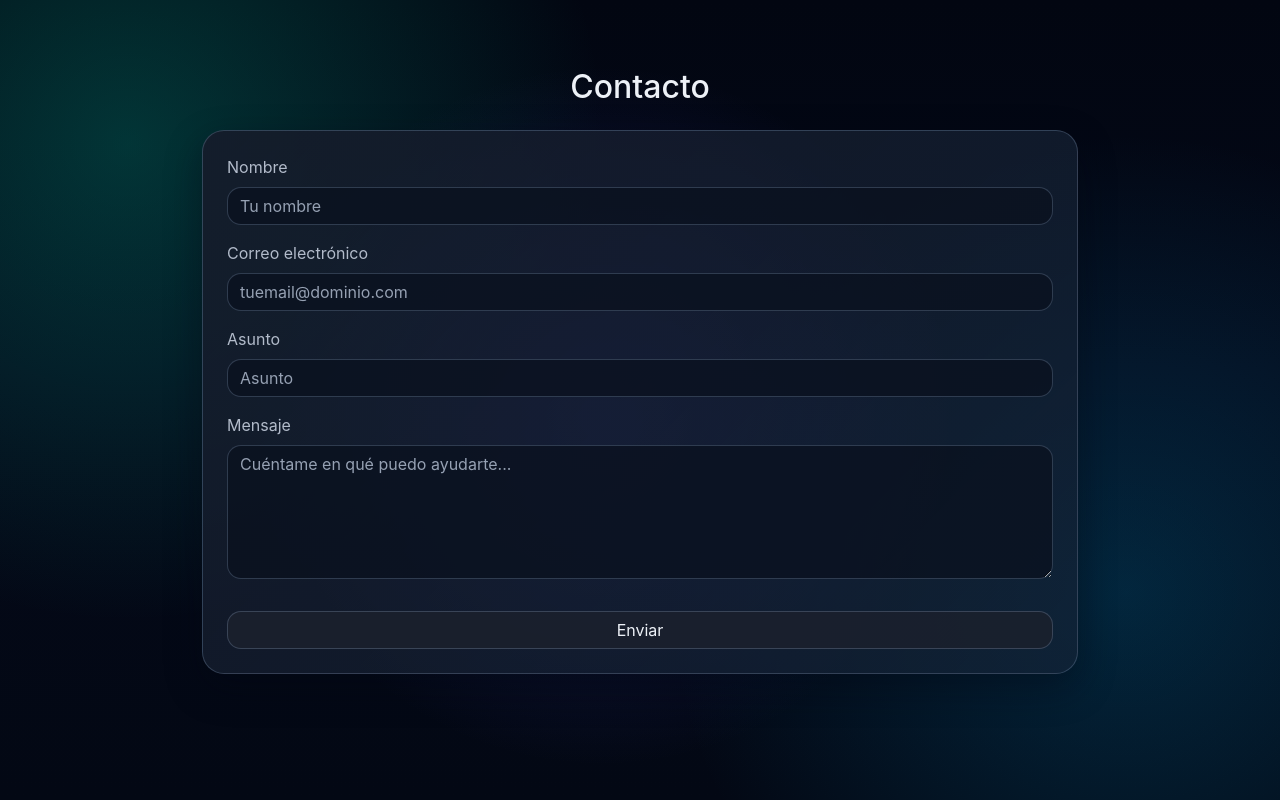
Test case: ContactView › muestra un error cuando Supabase devuelve un fallo
Step 1. Type "Victor" into the field with id "name" → x=640, y=206, box [227, 187, 1053, 225]
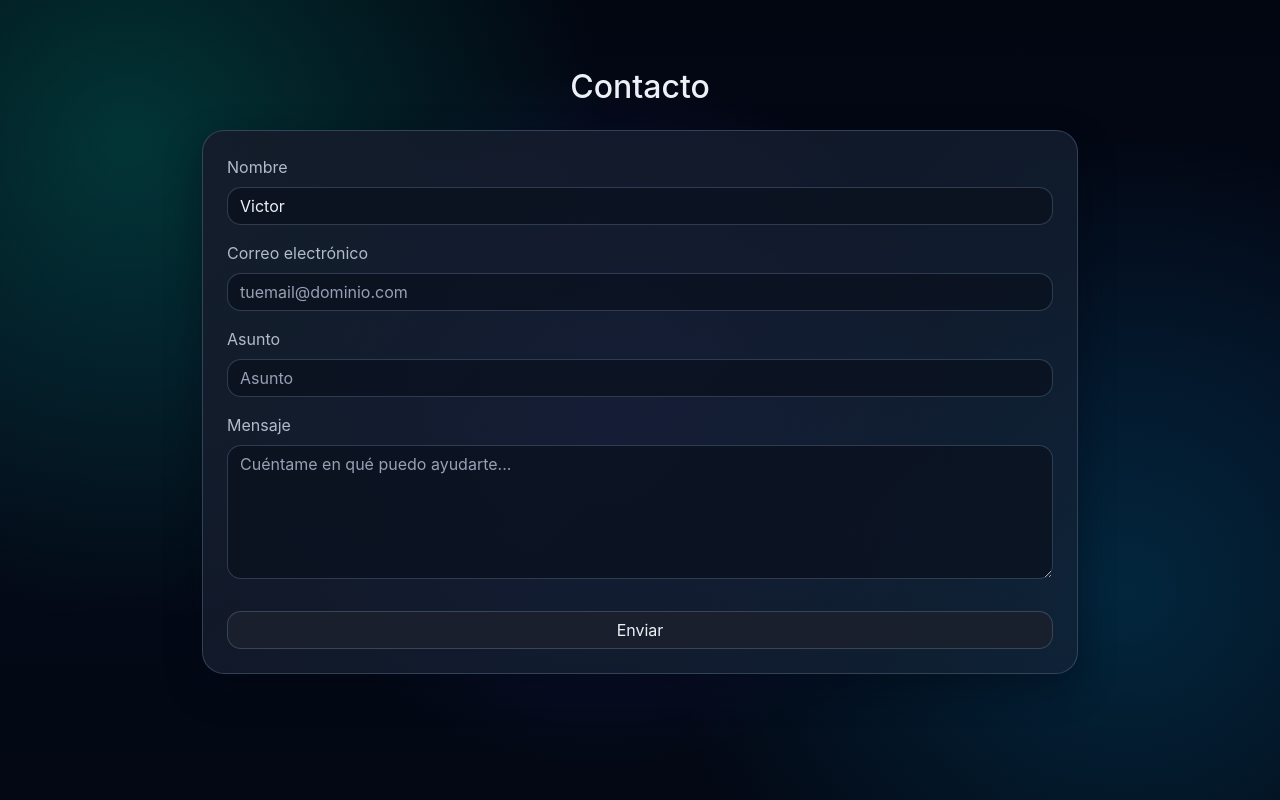
Step 2. Type "victor@example.com" into the field with id "email" → x=640, y=292, box [227, 273, 1053, 311]
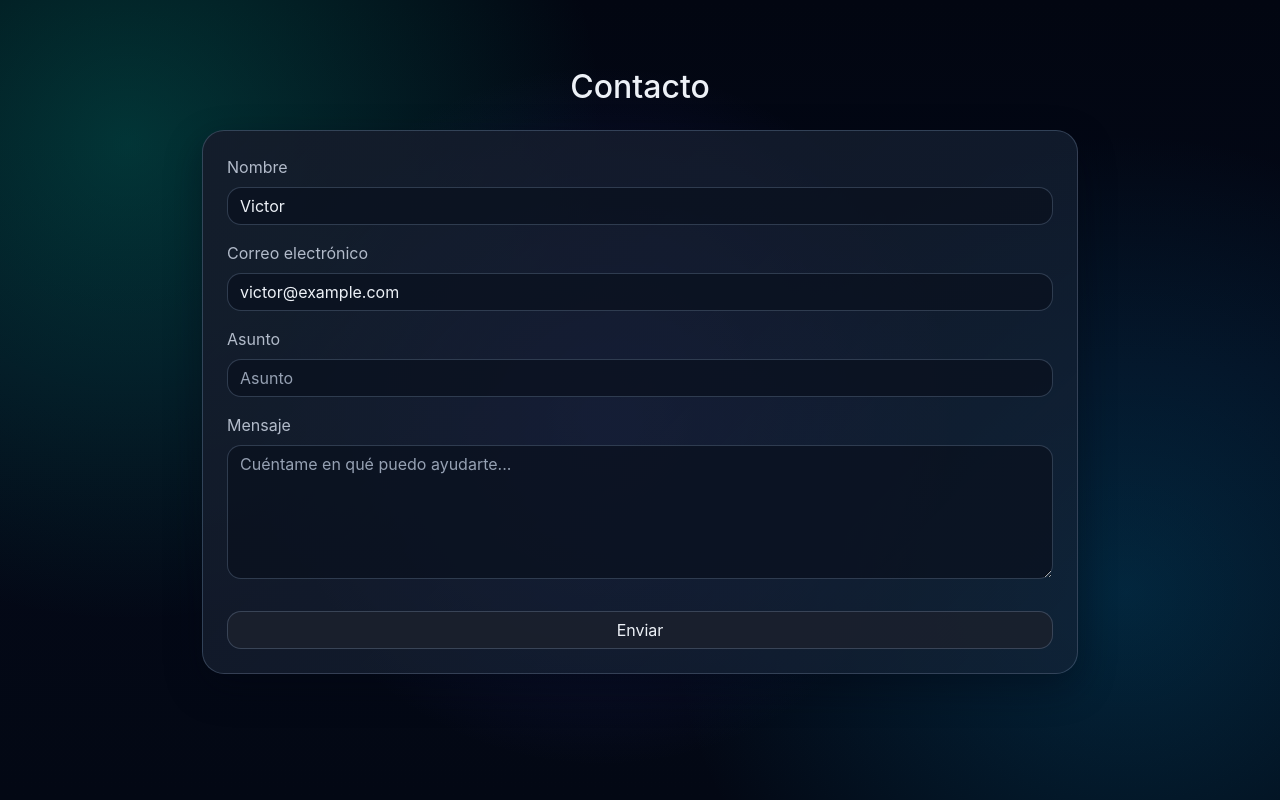
Step 3. Type "Consulta" into the field with id "subject" → x=640, y=378, box [227, 359, 1053, 397]
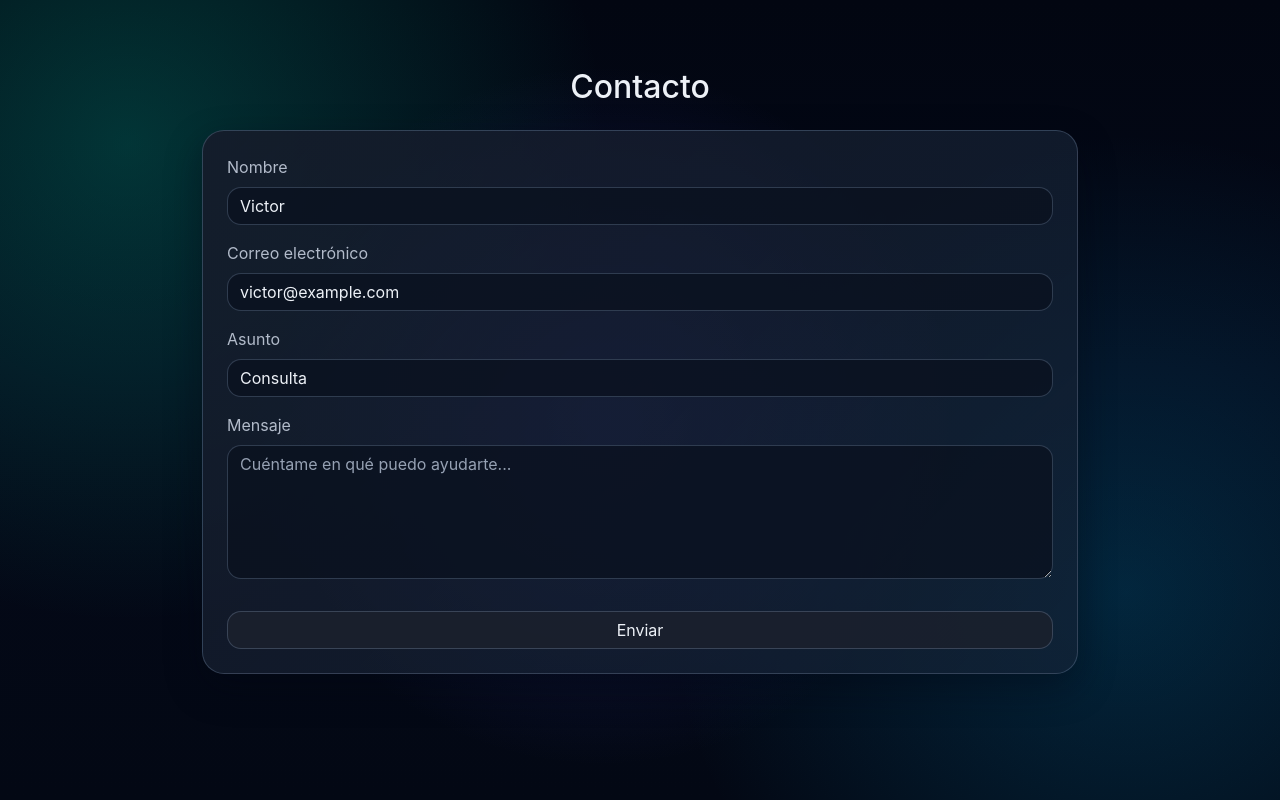
Step 4. Type "Quiero hablar sobre una oportunidad." into the text box with id "message" → x=640, y=512, box [227, 445, 1053, 579]
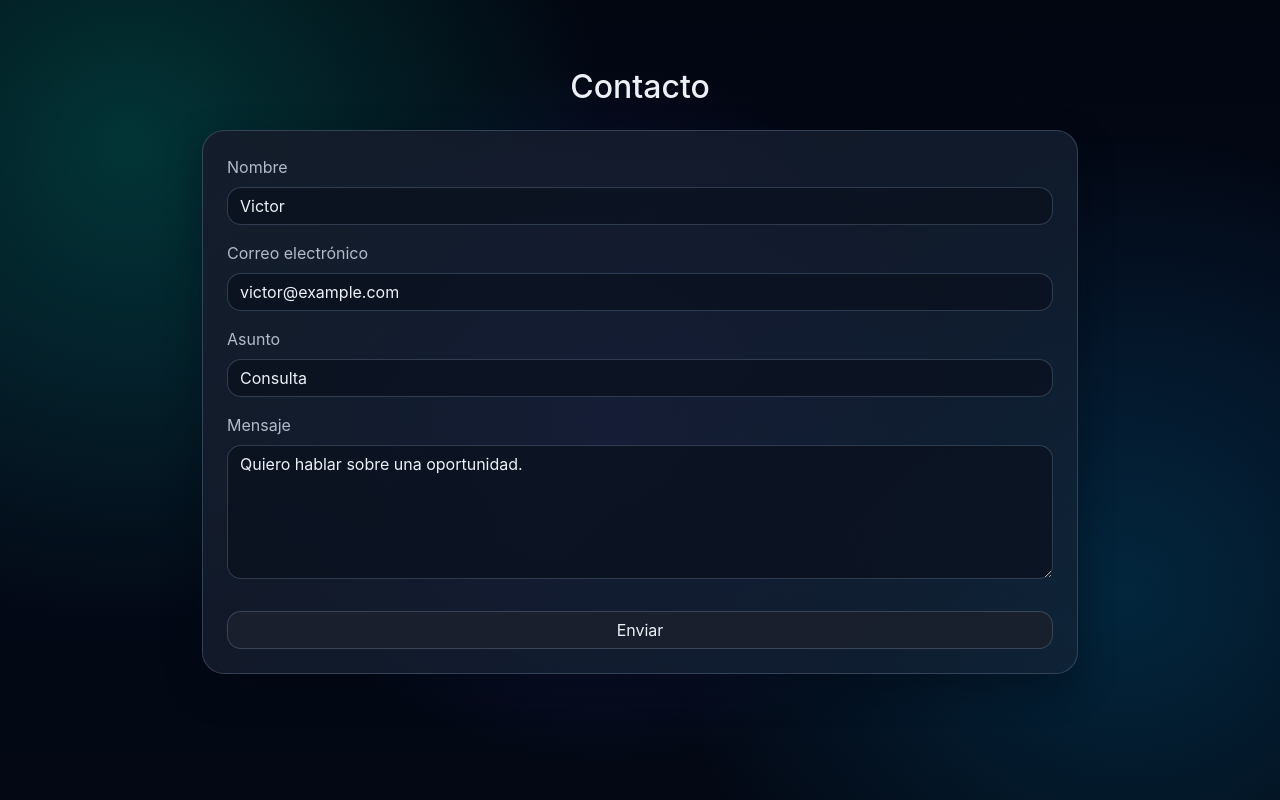
Step 5. Submit the form, box [202, 130, 1078, 674]
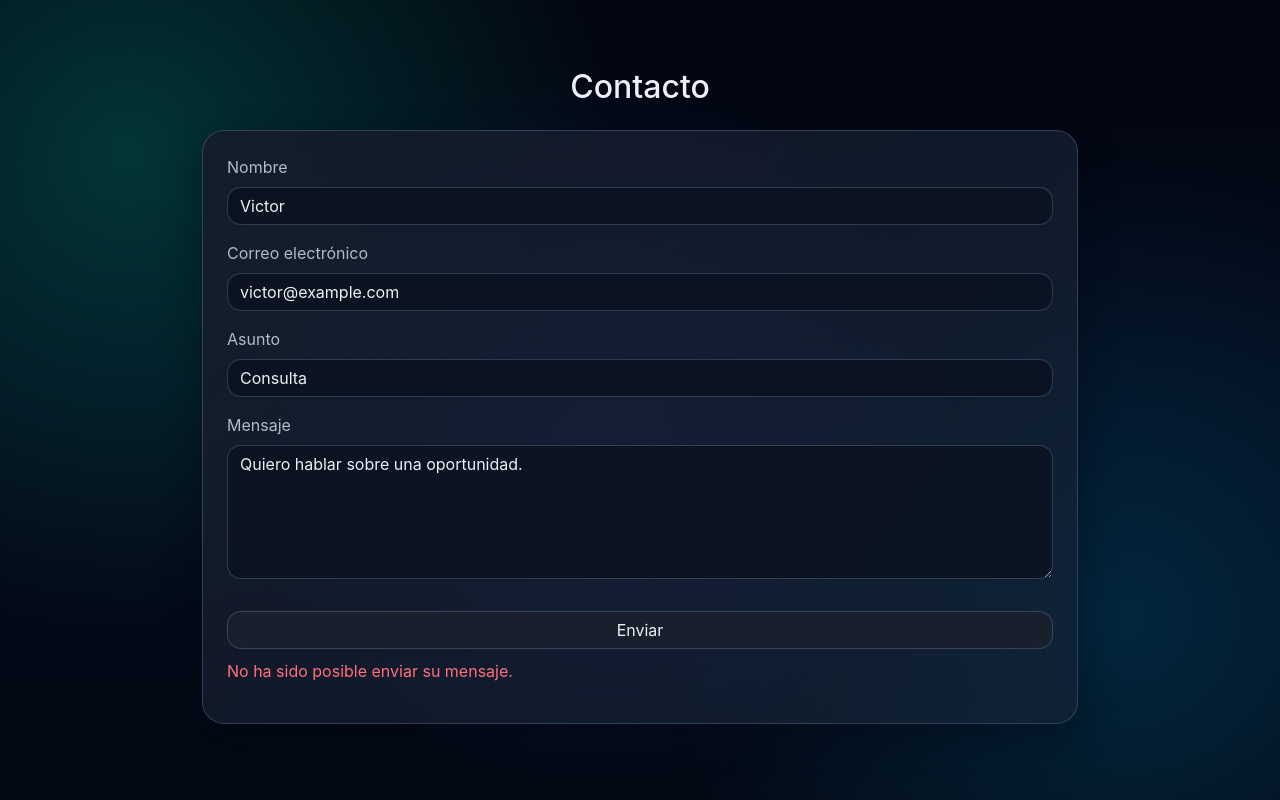
Check: the text "No ha sido posible enviar su mensaje." is shown, box [227, 661, 513, 681]
